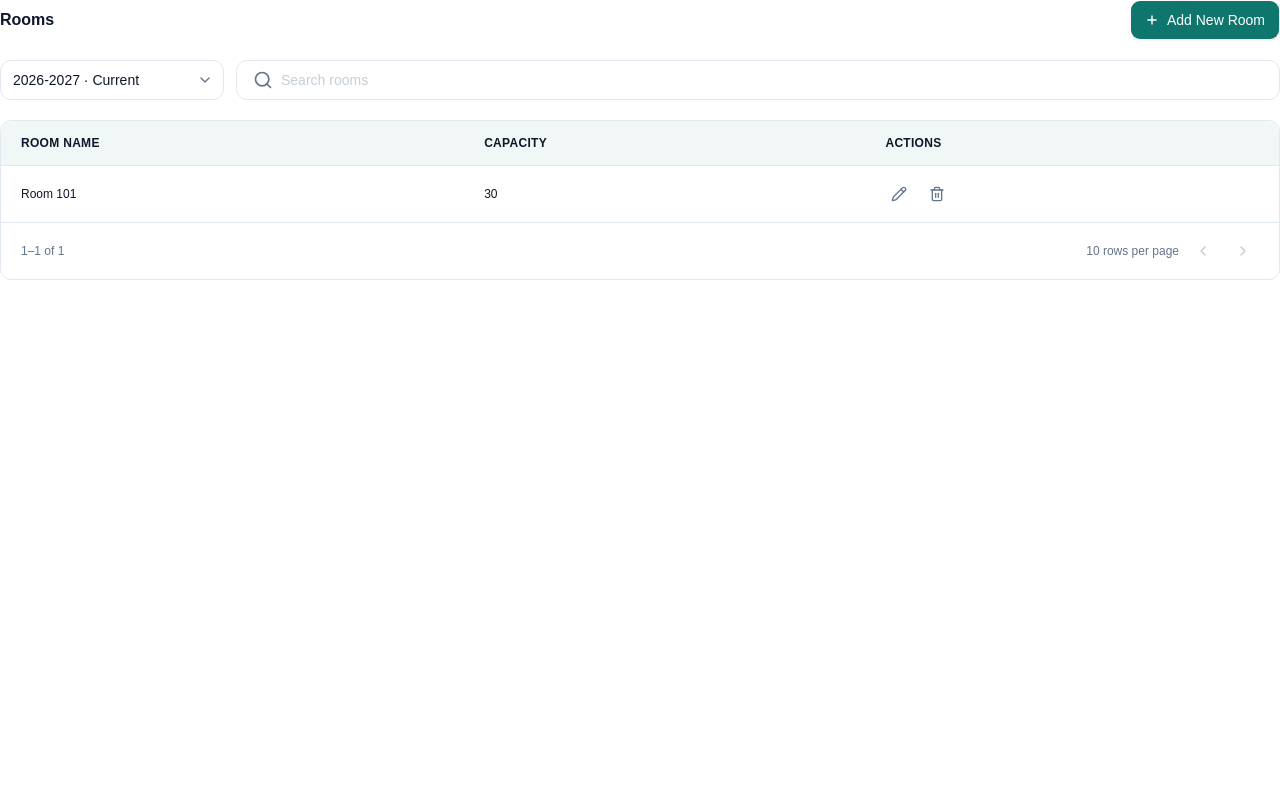
Scenario: LocationsPanel modal and actions › opens modal for editing an existing location with populated data
Check: the text "Room 101" is shown, box [1,165,464,222]
Click the button named "Edit Room 101" at (899, 194), box [885,180,913,208]
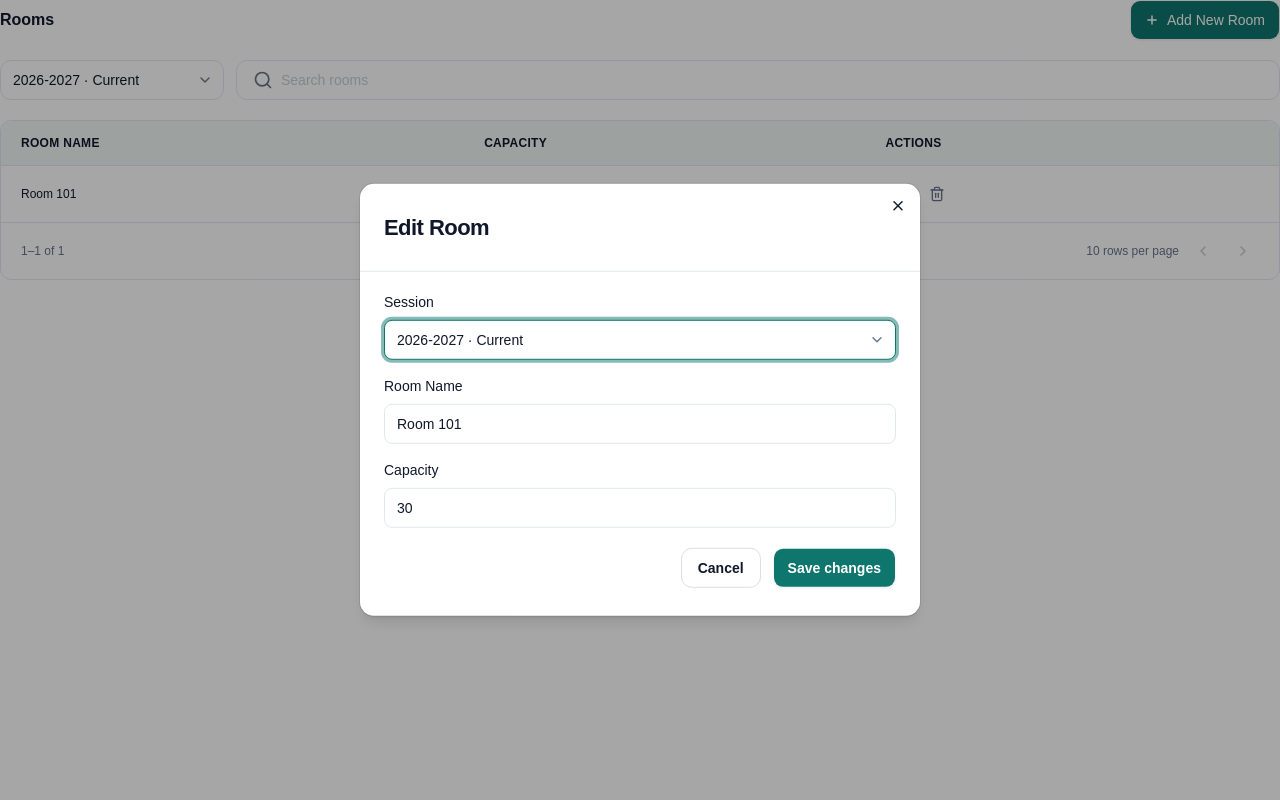
Check: the dialog is shown, box [360,184,920,616]
Check: the heading "Edit Room" is shown, box [384,215,489,240]
Check: the 1st field showing "Room 101" is shown, box [384,404,896,444]
